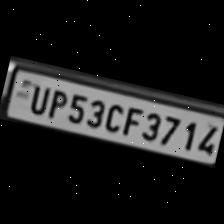1: (174, 116, 200, 151)
3: (137, 106, 163, 144), (80, 94, 106, 130)
4: (192, 119, 222, 157)
5: (62, 88, 90, 124)
7: (156, 110, 182, 148)
C: (99, 99, 125, 134)
F: (118, 102, 144, 139)
P: (42, 84, 68, 122)
U: (22, 80, 51, 116)
